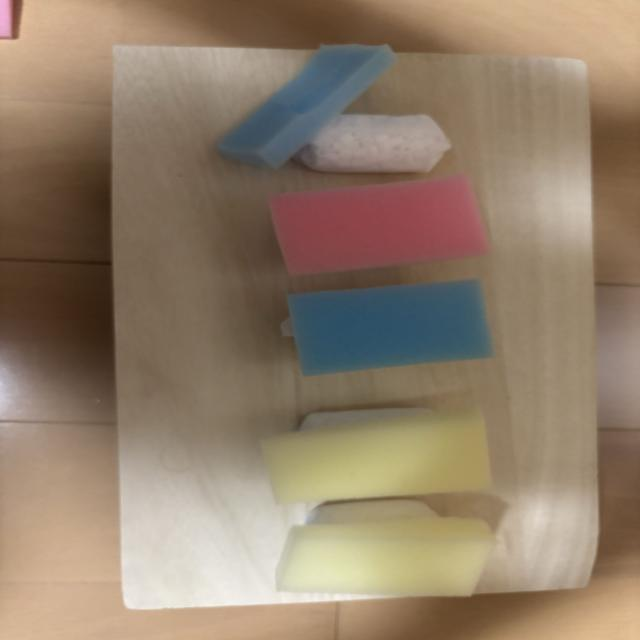NG: (219, 44, 451, 173)
ika: (287, 279, 494, 376)
tai: (270, 174, 489, 276)
tamago: (261, 410, 492, 504), (276, 517, 493, 597)
